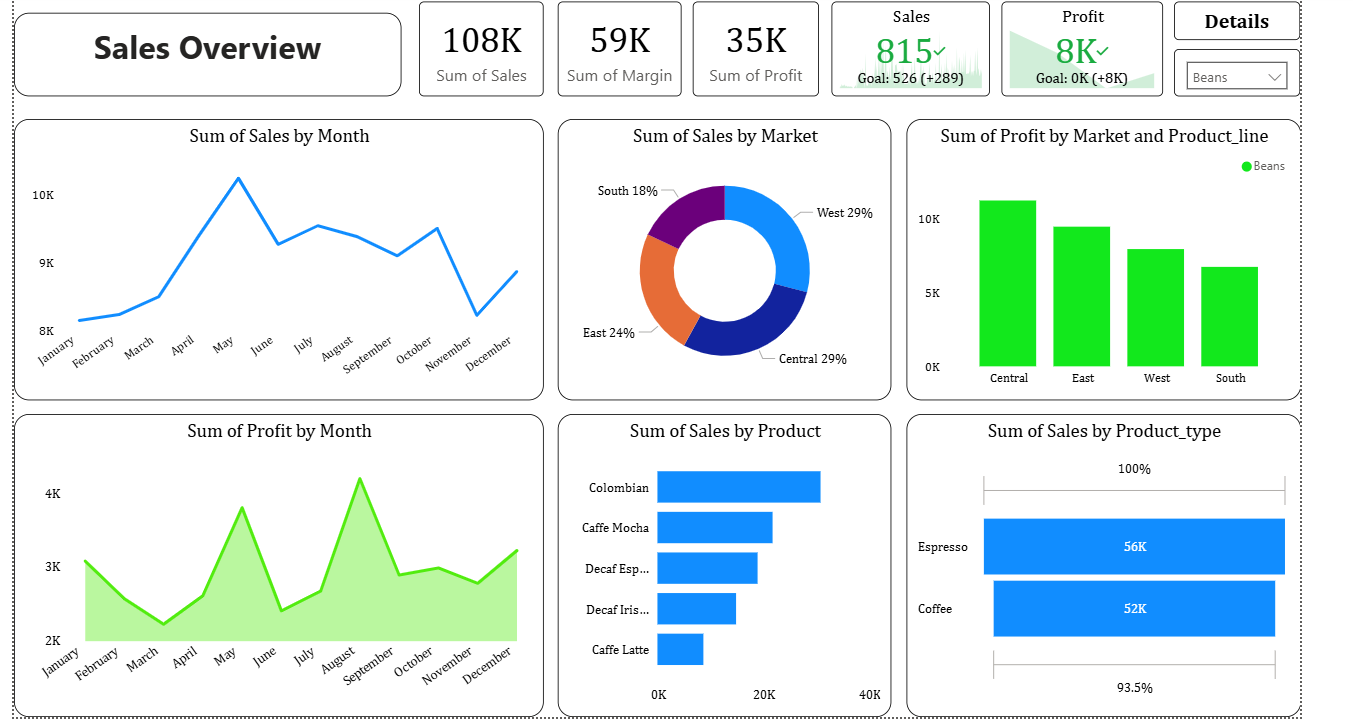

What the dashboard file says about the page in this screenshot:
{"tool":"powerbi","page":{"name":"Page 1","canvas":[1280,720],"ordinal":0},"visuals":[{"type":"lineChart","fields":{"Y":["Sum(Coffee_Chain_Sales.Sales)"],"Category":["Coffee_Chain_Sales.Date.Variation.Date Hierarchy.Month"]},"box":[0,118,532.4,290.9],"z":0},{"type":"areaChart","fields":{"Category":["Coffee_Chain_Sales.Date.Variation.Date Hierarchy.Month"],"Y":["Sum(Coffee_Chain_Sales.Profit)"]},"box":[0,419.9,532.4,300.5],"z":1000},{"type":"barChart","fields":{"Y":["Sum(Coffee_Chain_Sales.Sales)"],"Category":["Coffee_Chain_Sales.Product"]},"box":[544.8,419.9,323.8,300.5],"z":2000},{"type":"donutChart","fields":{"Y":["Sum(Coffee_Chain_Sales.Sales)"],"Category":["Coffee_Chain_Sales.Market"]},"box":[544.8,118,323.8,290.9],"z":3000},{"type":"clusteredColumnChart","fields":{"Category":["Coffee_Chain_Sales.Market"],"Series":["Coffee_Chain_Sales.Product_line"],"Y":["Sum(Coffee_Chain_Sales.Profit)"]},"box":[881,118,399.3,290.9],"z":4000},{"type":"funnel","fields":{"Category":["Coffee_Chain_Sales.Product_type"],"Y":["Sum(Coffee_Chain_Sales.Sales)"]},"box":[881,419.9,399.3,300.5],"z":5000},{"type":"card","fields":{"Values":["Sum(Coffee_Chain_Sales.Sales)"]},"box":[394.3,7.5,138.1,92.1],"z":6000},{"type":"card","fields":{"Values":["Sum(Coffee_Chain_Sales.Profit)"]},"box":[685.4,7.5,134.3,92.1],"z":7000},{"type":"card","fields":{"Values":["Sum(Coffee_Chain_Sales.Margin)"]},"box":[544.9,7.5,129.4,92.1],"z":8000},{"type":"kpi","title":"Sales","fields":{"Goal":["Sum(Coffee_Chain_Sales.Margin)"],"Indicator":["Sum(Coffee_Chain_Sales.Sales)"],"TrendLine":["Coffee_Chain_Sales.Profit"]},"box":[833.5,7.5,144.3,92.1],"z":9000},{"type":"kpi","title":"Profit","fields":{"TrendLine":["Coffee_Chain_Sales.Market"],"Goal":["Sum(Coffee_Chain_Sales.Marketing)"],"Indicator":["Sum(Coffee_Chain_Sales.Profit)"]},"box":[988.9,7.5,146.8,92.1],"z":10000},{"type":"textbox","box":[0,17.4,380.7,72.1],"z":11000},{"type":"actionButton","box":[1149.4,7.5,130.6,37.3],"z":12000},{"type":"slicer","fields":{"Values":["Coffee_Chain_Sales.Product_line"]},"box":[1149.4,53.5,130.6,46],"z":13000}]}

Visuals, with their boxes on the page's 1280x720 design canvas (x1, y1, x2, y2). These are canvas units, not pixel positions in the 1353x723 screenshot, which may show the page scaled, cropped or inside an application window:
lineChart - Sum(Coffee_Chain_Sales.Sales) x Coffee_Chain_Sales.Date.Variation.Date Hierarchy.Month: left=0, top=118, right=532, bottom=409
areaChart - Coffee_Chain_Sales.Date.Variation.Date Hierarchy.Month x Sum(Coffee_Chain_Sales.Profit): left=0, top=420, right=532, bottom=720
barChart - Sum(Coffee_Chain_Sales.Sales) x Coffee_Chain_Sales.Product: left=545, top=420, right=869, bottom=720
donutChart - Sum(Coffee_Chain_Sales.Sales) x Coffee_Chain_Sales.Market: left=545, top=118, right=869, bottom=409
clusteredColumnChart - Coffee_Chain_Sales.Market x Coffee_Chain_Sales.Product_line: left=881, top=118, right=1280, bottom=409
funnel - Coffee_Chain_Sales.Product_type x Sum(Coffee_Chain_Sales.Sales): left=881, top=420, right=1280, bottom=720
card - Sum(Coffee_Chain_Sales.Sales): left=394, top=8, right=532, bottom=100
card - Sum(Coffee_Chain_Sales.Profit): left=685, top=8, right=820, bottom=100
card - Sum(Coffee_Chain_Sales.Margin): left=545, top=8, right=674, bottom=100
"Sales" kpi: left=834, top=8, right=978, bottom=100
"Profit" kpi: left=989, top=8, right=1136, bottom=100
textbox: left=0, top=17, right=381, bottom=90
actionButton: left=1149, top=8, right=1280, bottom=45
slicer - Coffee_Chain_Sales.Product_line: left=1149, top=54, right=1280, bottom=100
